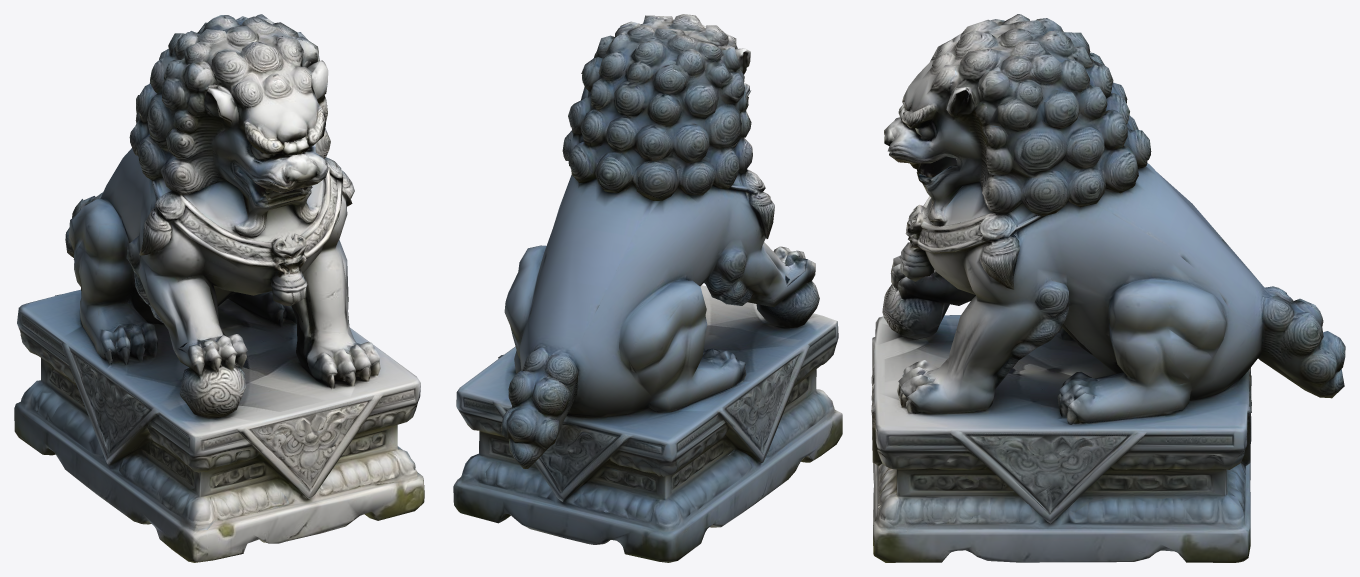
File: stone_lion.glb
3 renders of one model, left to right at view 1: azimuth 30°, elevation 25°; view 2: azimuth 150°, elevation 25°; view 3: azimuth 270°, elevation 25°, orthographic. The views are drawn at different scales.
Parts seen in each view (by area): view 1: convert; view 2: convert; view 3: convert.
Part boxes in pixels (box(x1,y1,x2,y2)): convert: box(14, 14, 424, 562); convert: box(453, 14, 842, 562); convert: box(871, 14, 1345, 562).
Size of the model in its own units: 0.4501 by 0.84 by 0.7615.
1 material, 1 textured.
